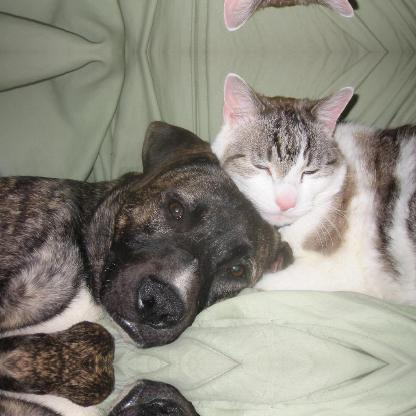Cat: (207, 72, 415, 308)
